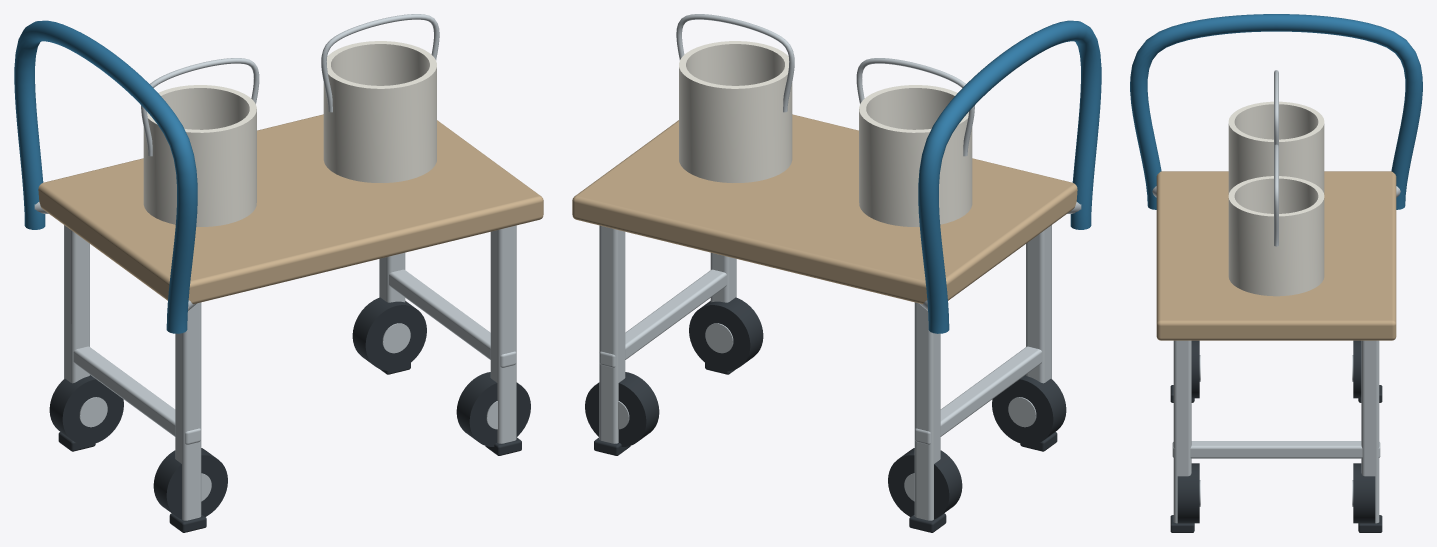
File: curling-club-and-ice-maintenance-paint-supply-trolley-4cc78f12__31304.glb
The picture shows the model from 3 angles, left to right: view 1: azimuth 30°, elevation 25°; view 2: azimuth 150°, elevation 25°; view 3: azimuth 270°, elevation 25°; orthographic projection. The views are drawn at different scales.
Visible parts, largest first — view 1: paint-supply-trolley; view 2: paint-supply-trolley; view 3: paint-supply-trolley.
Boxes of the visible parts, x1=… form: paint-supply-trolley: x1=14, y1=14, x2=543, y2=532; paint-supply-trolley: x1=572, y1=14, x2=1101, y2=532; paint-supply-trolley: x1=1130, y1=14, x2=1422, y2=532.
Bounding box in the file's own units: 0.922 × 1.03 × 0.7323.
